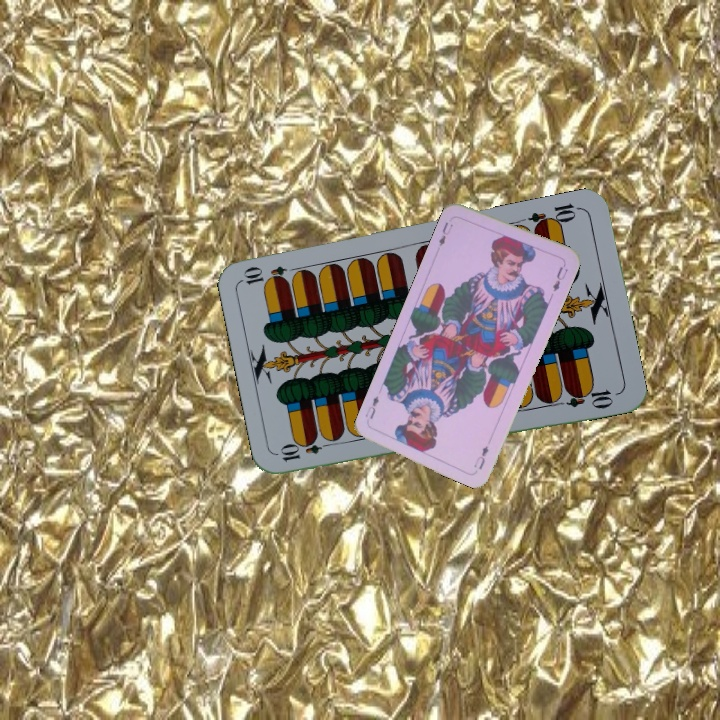E10: (525, 199, 584, 233), (276, 436, 335, 464)
EU: (434, 218, 456, 249), (470, 442, 491, 472)
